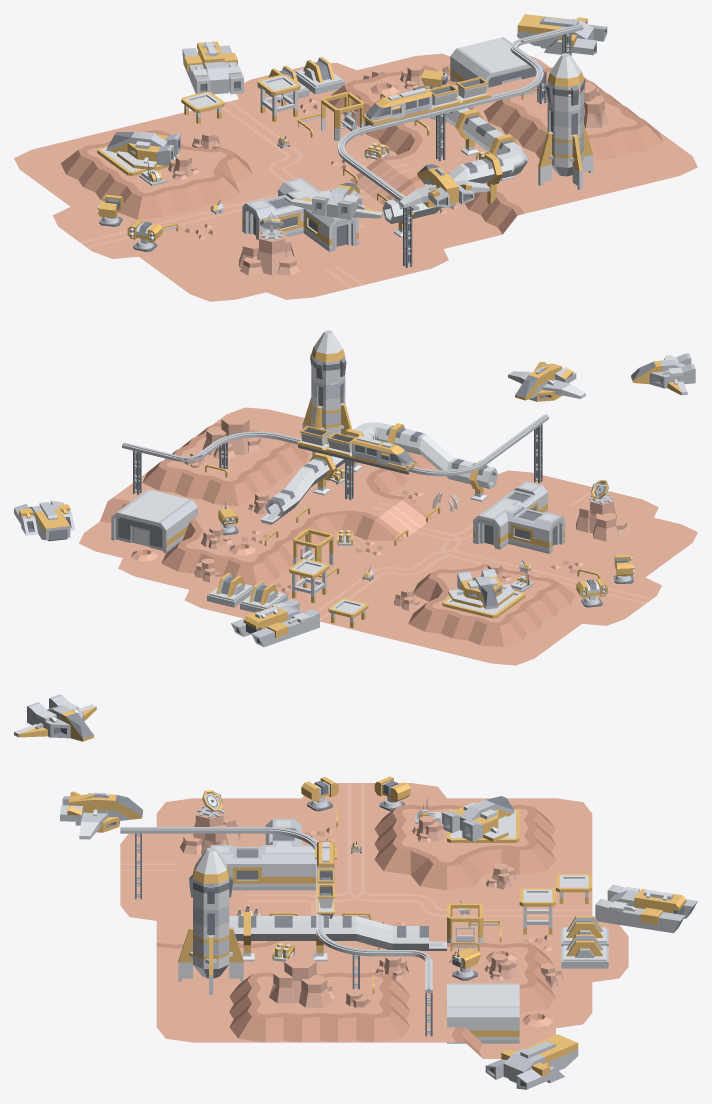
Rendered from martian_world.glb.
3 views of the same model, one above another, from view 1: azimuth 30°, elevation 25°; view 2: azimuth 150°, elevation 25°; view 3: azimuth 270°, elevation 25° (orthographic). The views are drawn at different scales.
Parts seen in each view (by area): view 1: craft_cargoB, hangar_smallA, craft_cargoA, craft_speederD, craft_speederB, rock_largeA.001, craft_speederC, rocket_baseA, platform_high, corridor_end.003, machine_generatorLarge.001, rocket_sidesA (+96 smaller); view 2: hangar_smallA, craft_cargoB, craft_speederD, craft_cargoA, craft_speederB, craft_speederC, rock_largeA.001, rock_largeA.003, pipe_rampLarge, gate, corridor_end, platform_high (+44 smaller); view 3: hangar_smallA, craft_cargoB, craft_cargoA, craft_speederD, rock_largeA.003, craft_speederC, craft_speederB, rocket_baseA, pipe_rampSmall, corridor_split, corridor_windowClosed, rock_largeA.001 (+31 smaller).
Boxes of the visible parts, bbox=[...] form: craft_cargoB: bbox=[182, 41, 243, 94]; hangar_smallA: bbox=[450, 37, 543, 89]; craft_cargoA: bbox=[517, 14, 607, 55]; craft_speederD: bbox=[399, 164, 490, 207]; craft_speederB: bbox=[107, 132, 180, 169]; rock_largeA.001: bbox=[239, 229, 299, 275]; craft_speederC: bbox=[291, 182, 382, 219]; rocket_baseA: bbox=[538, 125, 593, 190]; platform_high: bbox=[257, 74, 300, 121]; corridor_end.003: bbox=[320, 214, 358, 251]; machine_generatorLarge.001: bbox=[295, 57, 344, 94]; rocket_sidesA: bbox=[547, 94, 583, 139]; hangar_smallA: bbox=[111, 489, 197, 552]; craft_cargoB: bbox=[231, 599, 319, 647]; craft_speederD: bbox=[508, 362, 585, 401]; craft_cargoA: bbox=[14, 500, 74, 541]; craft_speederB: bbox=[448, 568, 514, 609]; craft_speederC: bbox=[631, 353, 695, 395]; rock_largeA.001: bbox=[576, 494, 630, 541]; rock_largeA.003: bbox=[202, 414, 263, 459]; pipe_rampLarge: bbox=[405, 430, 467, 482]; gate: bbox=[115, 515, 163, 550]; corridor_end: bbox=[473, 510, 508, 549]; platform_high: bbox=[289, 558, 329, 602]; hangar_smallA: bbox=[447, 983, 519, 1043]; craft_cargoB: bbox=[595, 884, 697, 933]; craft_cargoA: bbox=[485, 1034, 578, 1089]; craft_speederD: bbox=[60, 791, 142, 839]; rock_largeA.003: bbox=[269, 956, 335, 1007]; craft_speederC: bbox=[14, 694, 96, 741]; craft_speederB: bbox=[442, 796, 514, 841]; rocket_baseA: bbox=[178, 927, 243, 994]; pipe_rampSmall: bbox=[338, 916, 410, 949]; corridor_split: bbox=[265, 842, 301, 890]; corridor_windowClosed: bbox=[229, 845, 265, 890]; rock_largeA.001: bbox=[180, 807, 240, 854].
Bounding box in the file's own units: 20.43 × 4.5 × 18.84.
